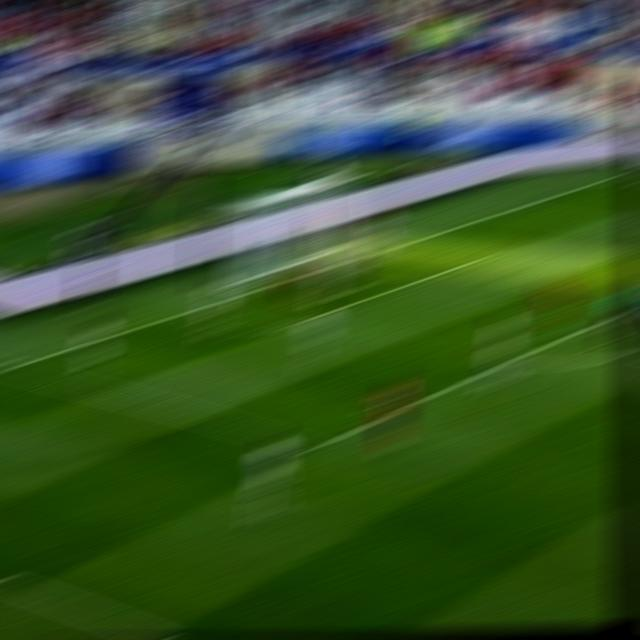bigarea_bottom_inner: (300, 436, 334, 456)
bigarea_bottom_outter: (0, 355, 27, 376)
bigarea_top_outter: (497, 203, 528, 213)
corner: (605, 170, 637, 177)
smallarea_bottom_inner: (259, 320, 292, 337)
smallarea_bottom_outter: (176, 302, 208, 317)
smallarea_top_inner: (470, 249, 500, 260)
smallarea_top_outter: (394, 235, 423, 247)
